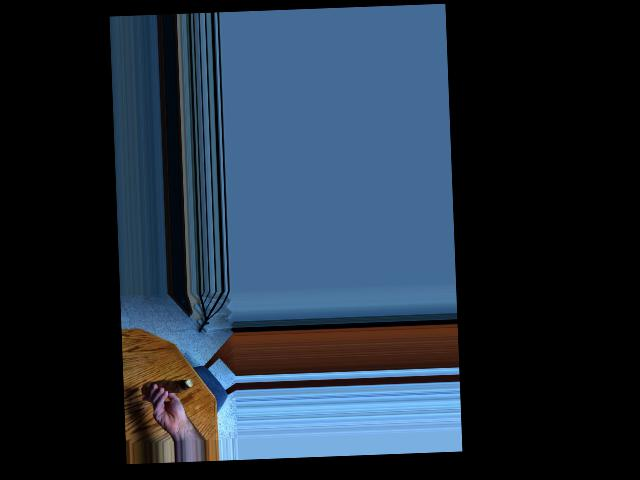sweet_potato: (149, 379, 194, 392)
